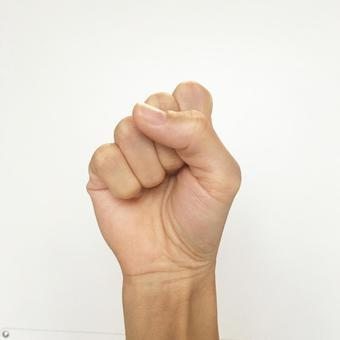gu-: (85, 81, 241, 269)
